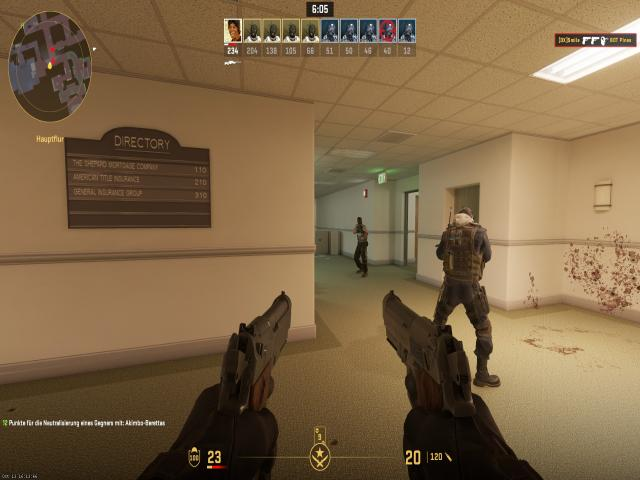CT: (443, 205, 495, 382)
CT-Head: (458, 207, 474, 223)
T: (354, 215, 368, 272)
T-Head: (357, 216, 364, 228)
